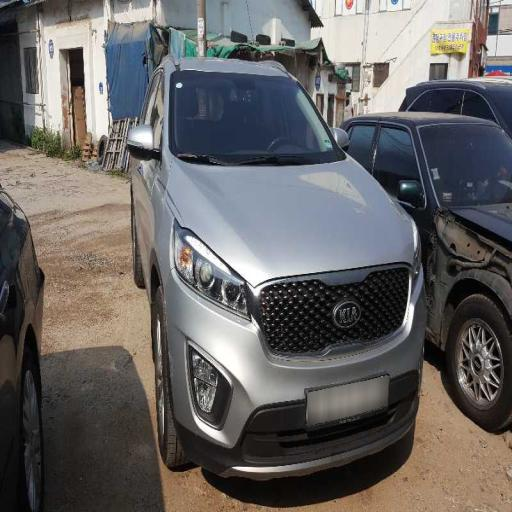scratch: (267, 136, 386, 250)
